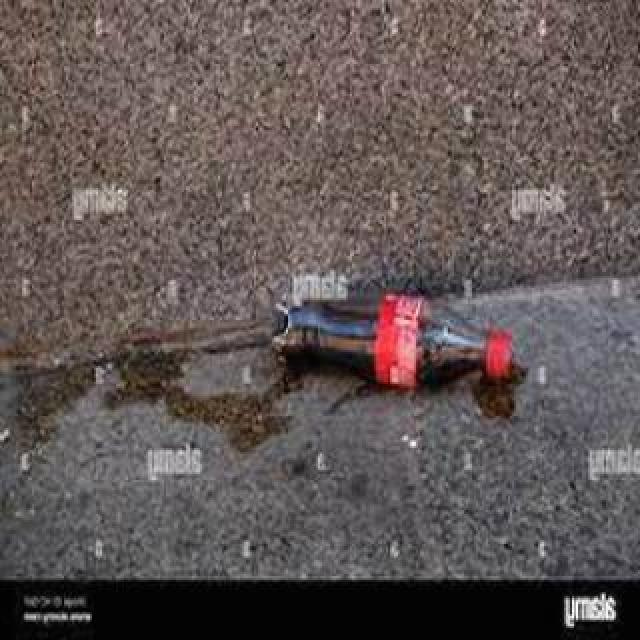Pet_Bottle: (268, 289, 528, 403)
